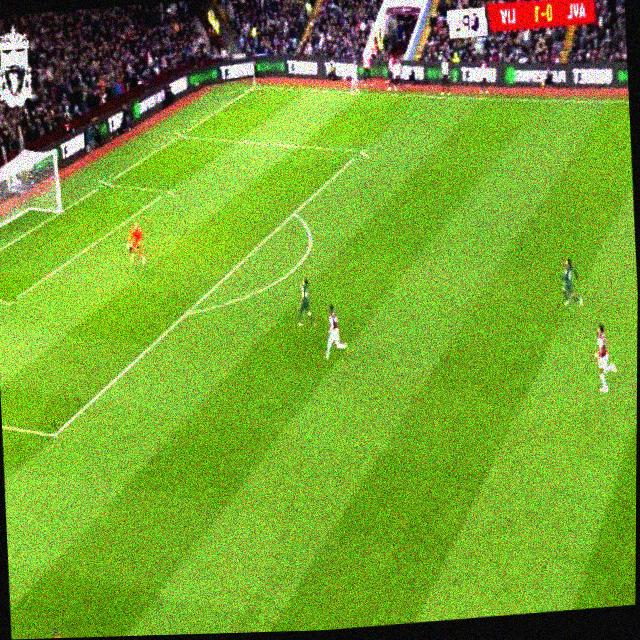bigarea_bottom_inner: (46, 419, 67, 448)
bigarea_top_inner: (353, 140, 369, 160)
bigarea_top_outter: (174, 127, 188, 142)
bottom_arc_area_intersection: (181, 300, 197, 323)
corner: (249, 79, 265, 94)
smallarea_bottom_inner: (0, 289, 17, 315)
smallarea_top_inner: (160, 181, 177, 199)
smallarea_top_outter: (98, 173, 115, 193)
top_arc_area_intersection: (287, 203, 303, 222)
